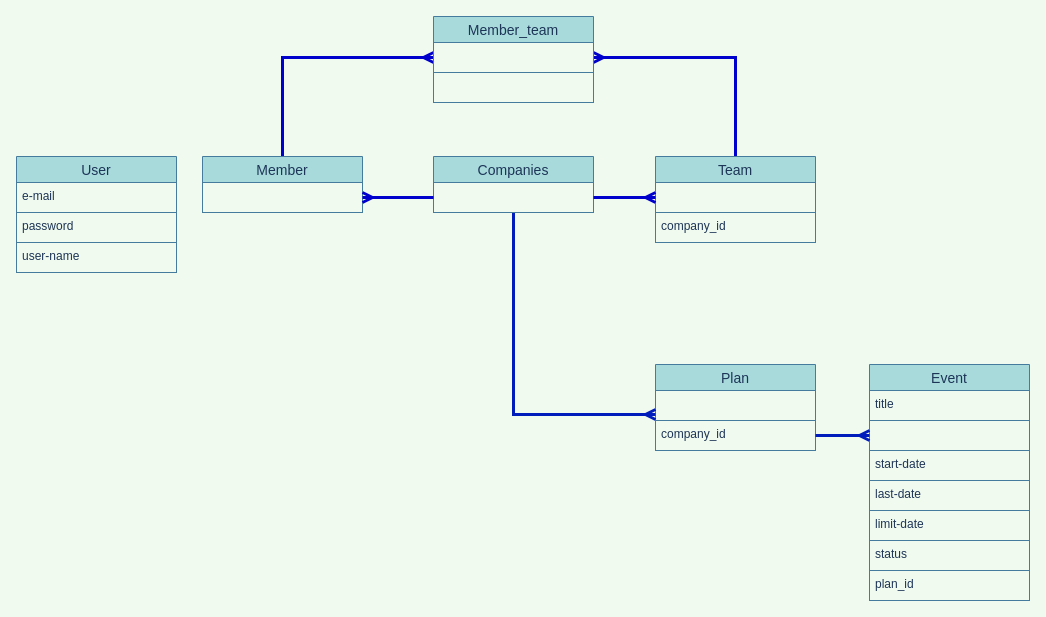
Image size: 1046x617. Some labels were removed from this diagram. Each missing label, with the centre of its shape:
body: the point at 949,435
company_name: the point at 513,197
member_id: the point at 513,57
member_name: the point at 282,197
plan-name: the point at 735,405
team_id: the point at 513,87
team_name: the point at 735,197
